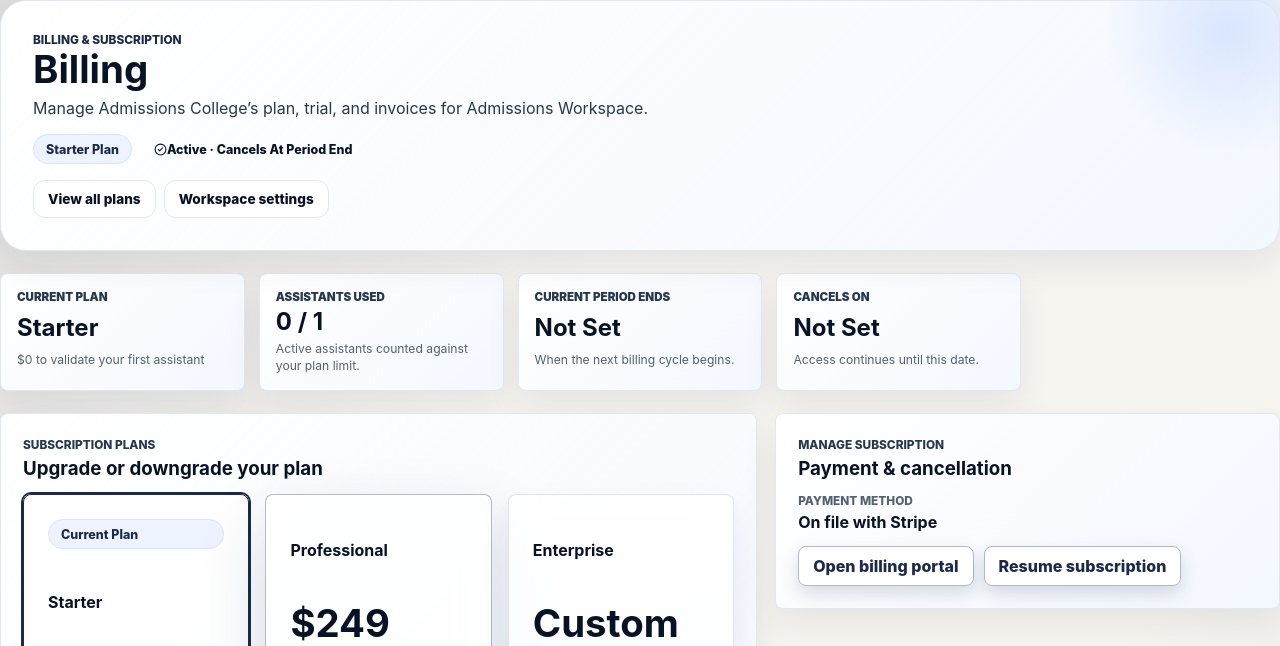
Test: BillingDashboardClient › resumes a subscription scheduled for cancellation
The width and height of the screenshot is (1280, 646).
Click the button "Resume subscription": click(1082, 566) [984,546,1181,586]
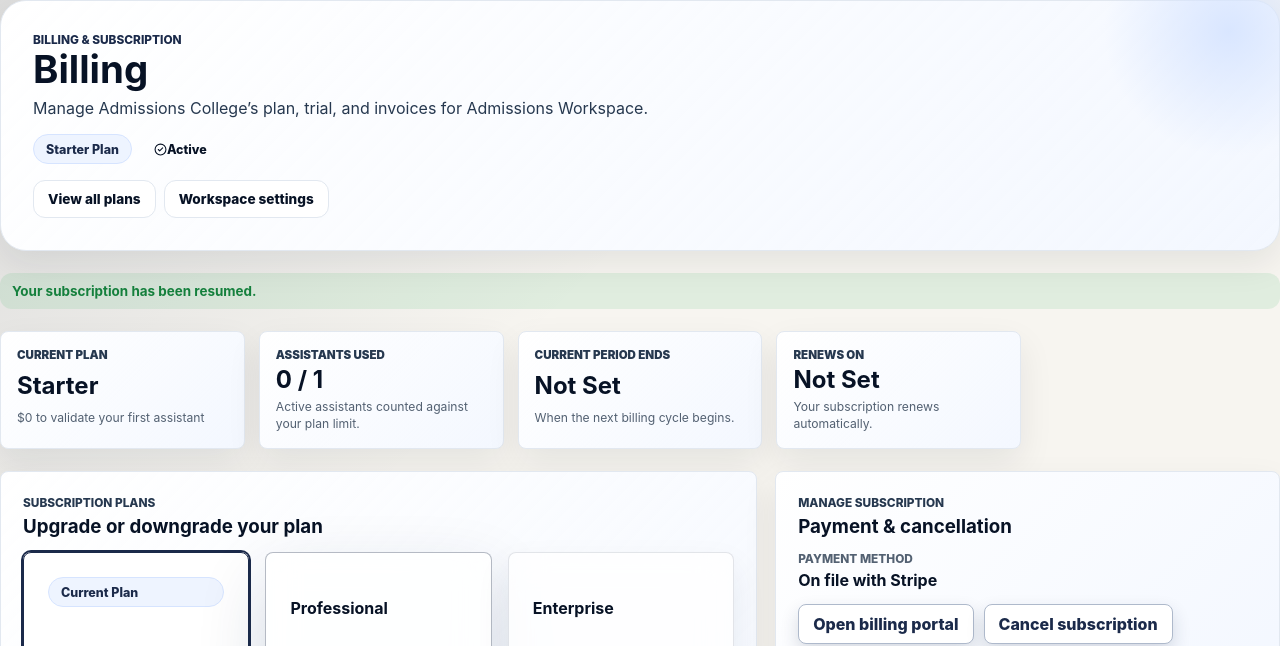
Now the text "Your subscription has been resumed." is shown, box [0,273,1279,309]
